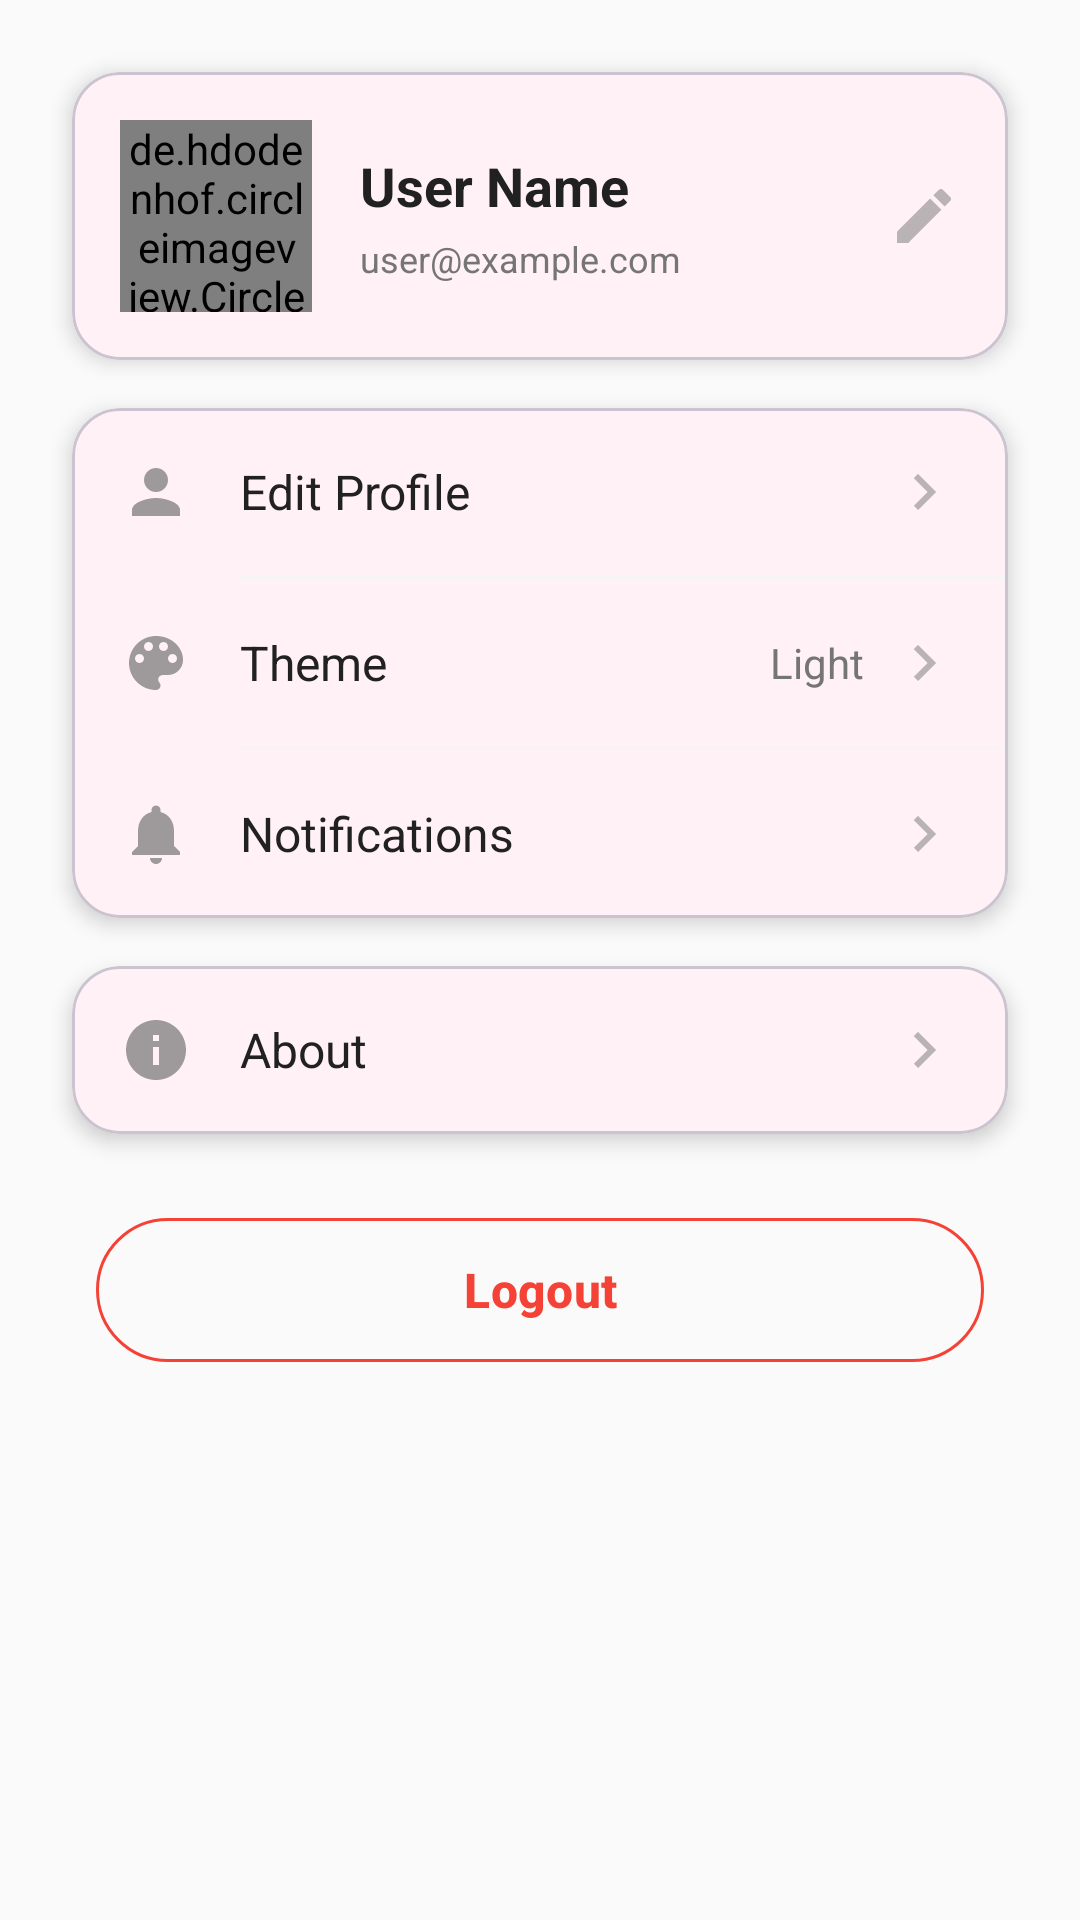

Icons on this 1080 × 1920 Android screen, each with its box as {"x1": x1, "y1": y1, "x2": x2, "y2": y2}:
arrow forward: {"x1": 914, "y1": 474, "x2": 936, "y2": 510}, {"x1": 914, "y1": 645, "x2": 936, "y2": 681}, {"x1": 914, "y1": 816, "x2": 936, "y2": 852}, {"x1": 914, "y1": 1032, "x2": 936, "y2": 1068}
edit: {"x1": 897, "y1": 189, "x2": 951, "y2": 243}
info: {"x1": 126, "y1": 1020, "x2": 186, "y2": 1080}
palette: {"x1": 129, "y1": 636, "x2": 183, "y2": 690}
person: {"x1": 132, "y1": 468, "x2": 180, "y2": 516}
